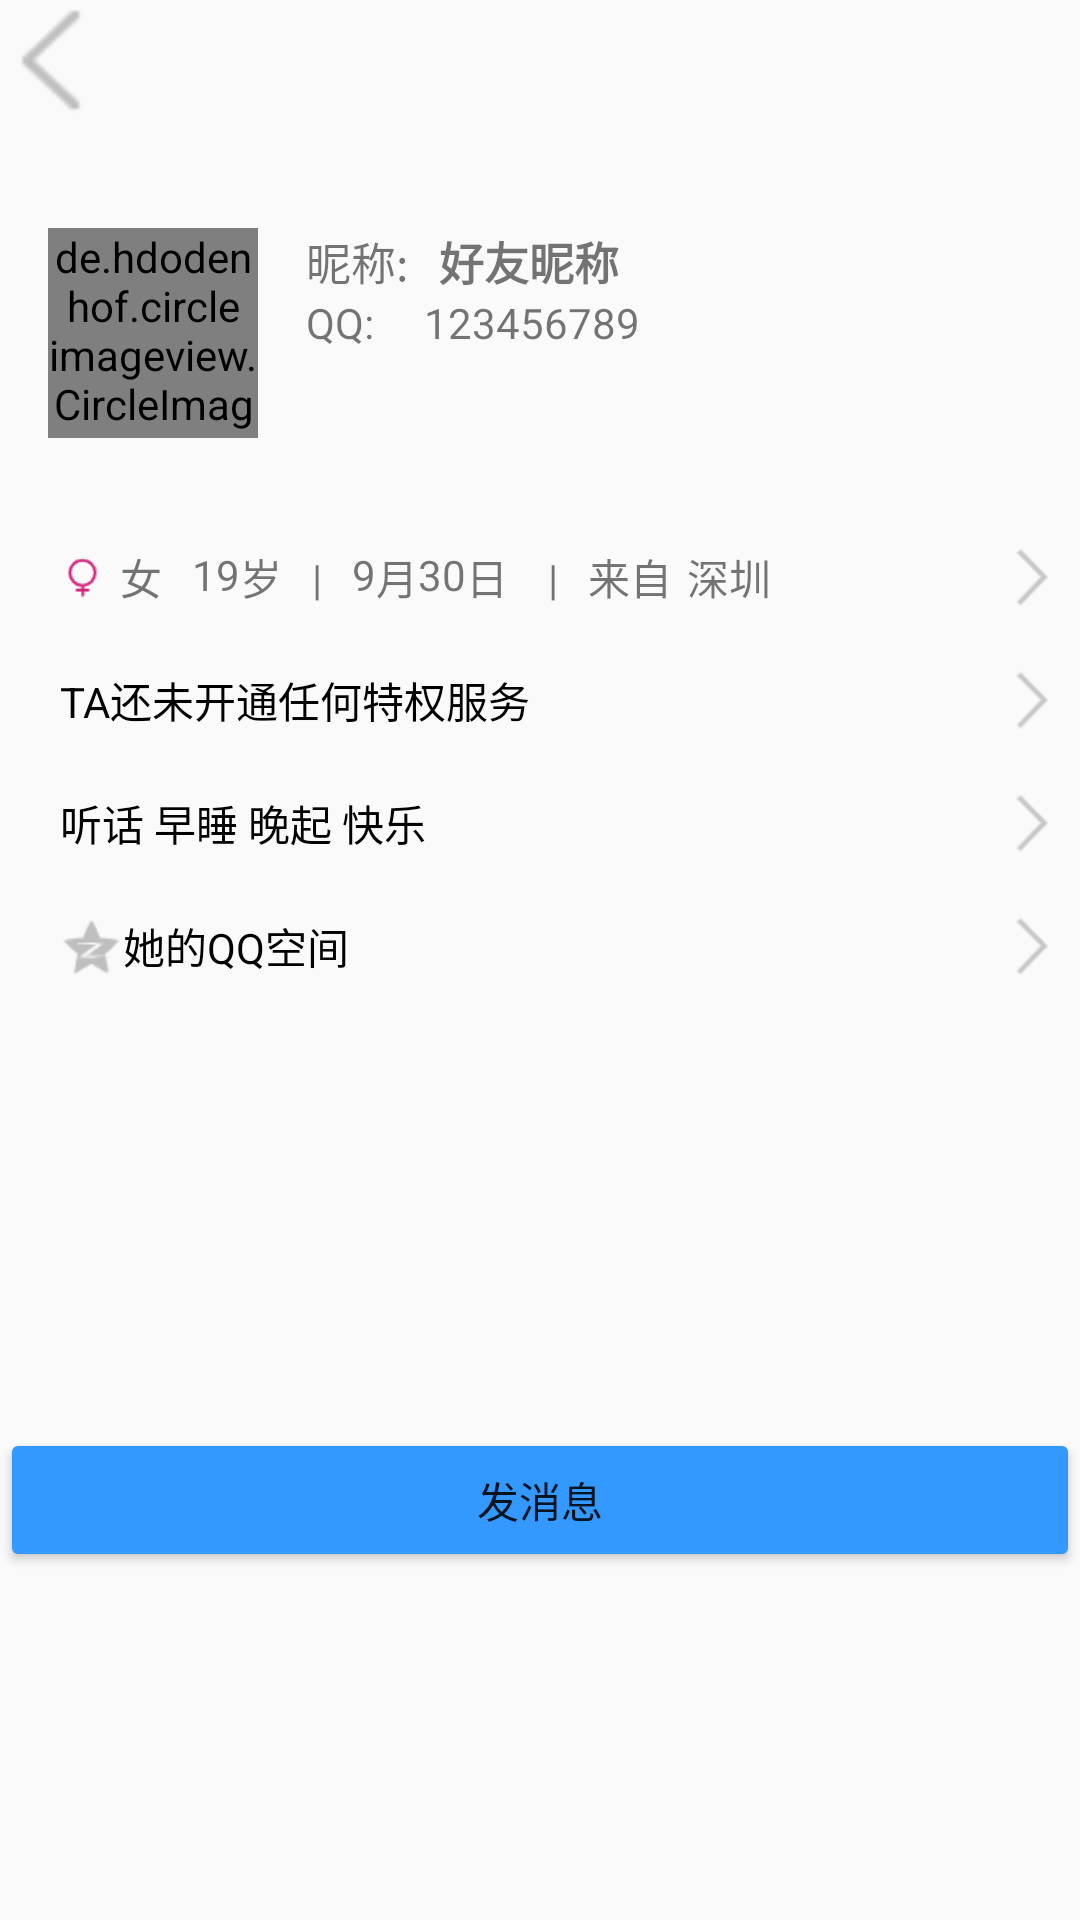

Named icons in this screenshot (1080×1920) and their bounding boxes, (left=x1, top=y1, right=x2, bottom=y2):
back: (left=22, top=11, right=79, bottom=109)
